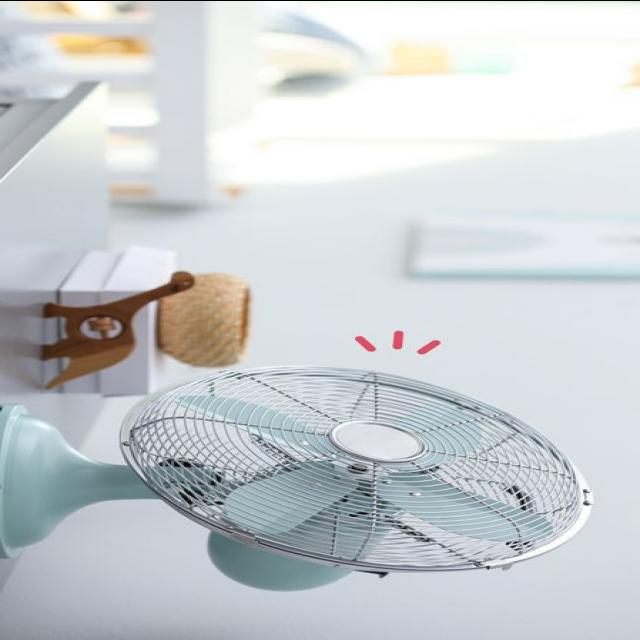fan: (6, 362, 600, 594)
